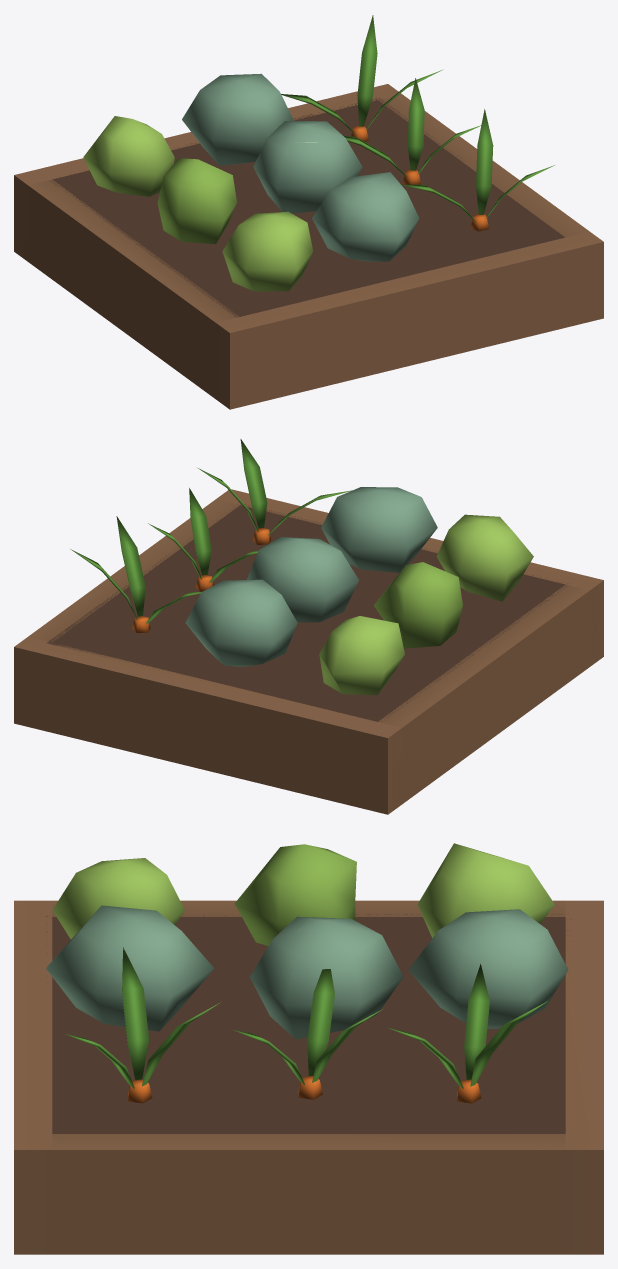
File: vegPatch.far.glb
The picture shows the model from 3 angles, top to bottom: view 1: azimuth 30°, elevation 25°; view 2: azimuth 150°, elevation 25°; view 3: azimuth 270°, elevation 25°; orthographic projection. The views are drawn at different scales.
Parts seen in each view (by area): view 1: vegPatch; view 2: vegPatch; view 3: vegPatch.
Boxes of the visible parts, <box> form: vegPatch: <box>14,15,603,409</box>; vegPatch: <box>14,439,603,814</box>; vegPatch: <box>14,843,603,1254</box>.
Bounding box in the file's own units: 0.92 × 0.3979 × 0.92.
